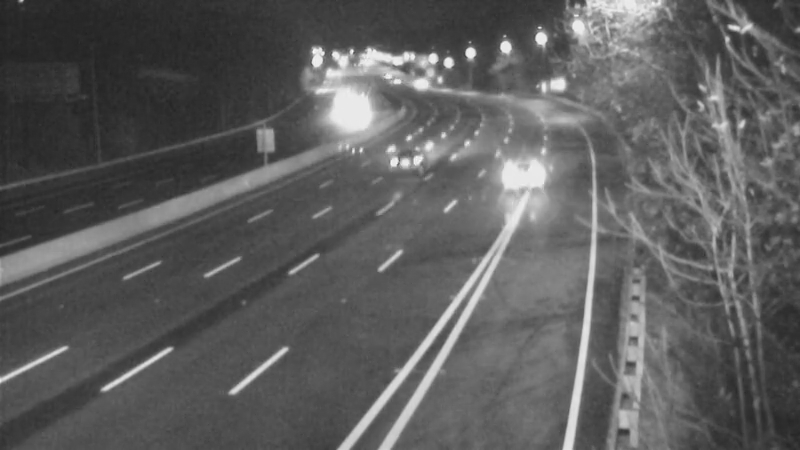vehicle: (479, 134, 559, 214), (363, 119, 443, 199), (386, 57, 436, 107), (325, 85, 375, 135)
